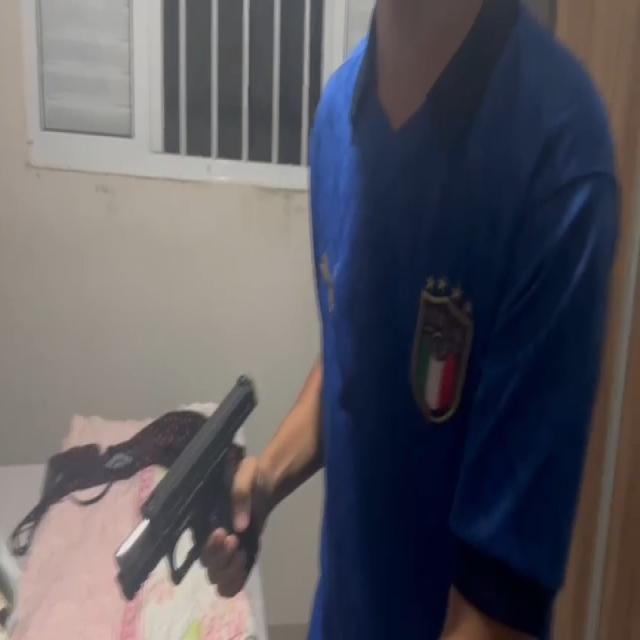gun: (116, 375, 258, 598)
